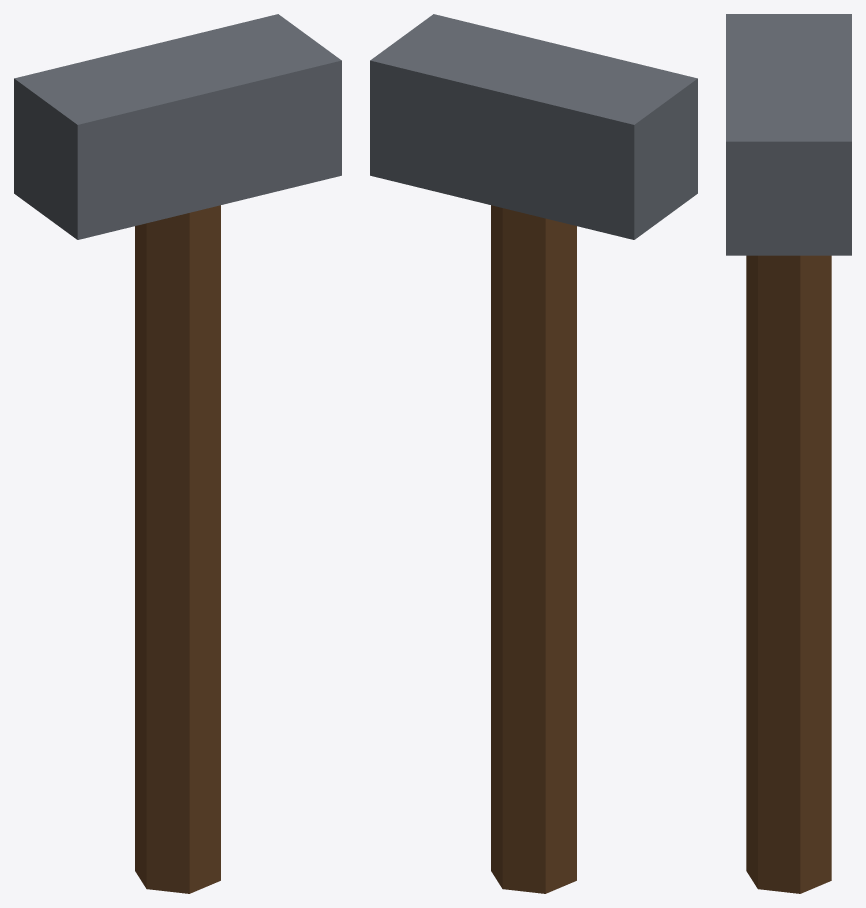
Rendered from gear_hammer.glb.
3 views of the same model, side by side, from view 1: azimuth 30°, elevation 25°; view 2: azimuth 150°, elevation 25°; view 3: azimuth 270°, elevation 25° (orthographic).
Parts seen in each view (by area): view 1: gear_hammer; view 2: gear_hammer; view 3: gear_hammer.
Part boxes in pixels (left/top/right/bottom): gear_hammer: left=14, top=14, right=341, bottom=893; gear_hammer: left=370, top=14, right=697, bottom=893; gear_hammer: left=726, top=14, right=851, bottom=893.
Size of the model in its own units: 0.144 by 0.42 by 0.06.
